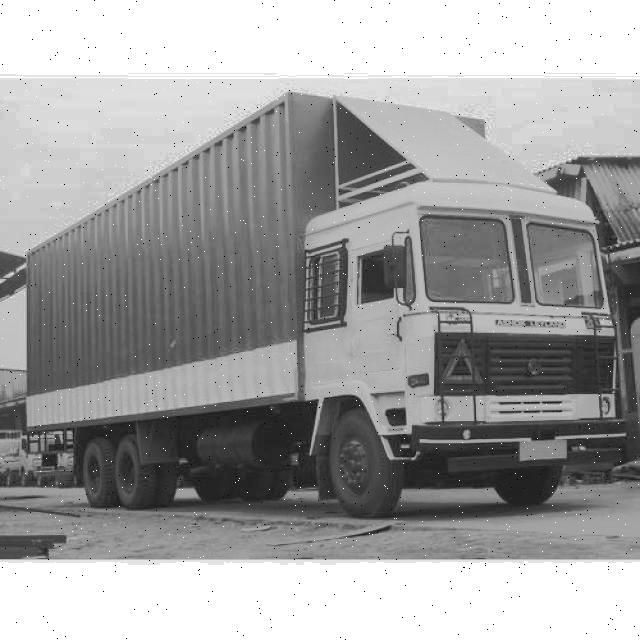HCV: (10, 85, 640, 564)
